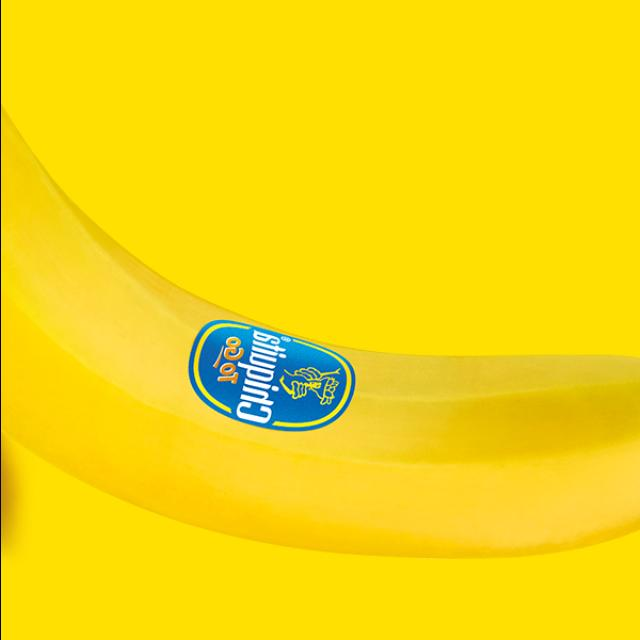banana: (0, 100, 640, 562)
